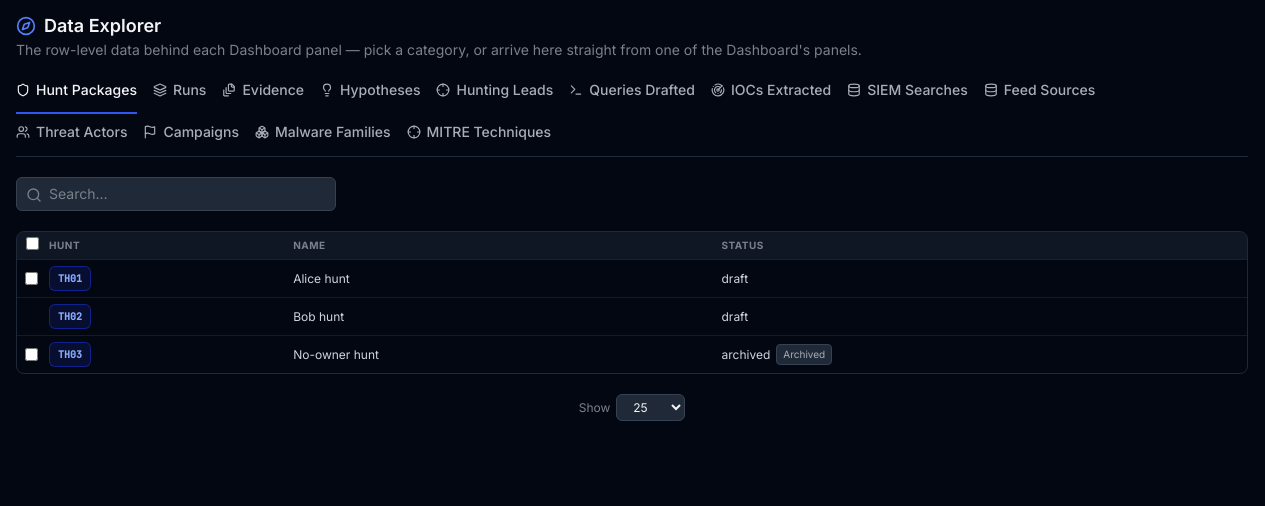
Test case: DataExplorer — bulk archive/unarchive/delete (issue-local-044) › hides the Delete action for a non-admin researcher
Expected: the text "Alice hunt" is shown, left=285, top=260, right=714, bottom=298
Click the checkbox named "Select Alice hunt".
click(32, 278)  # box left=25, top=272, right=38, bottom=284
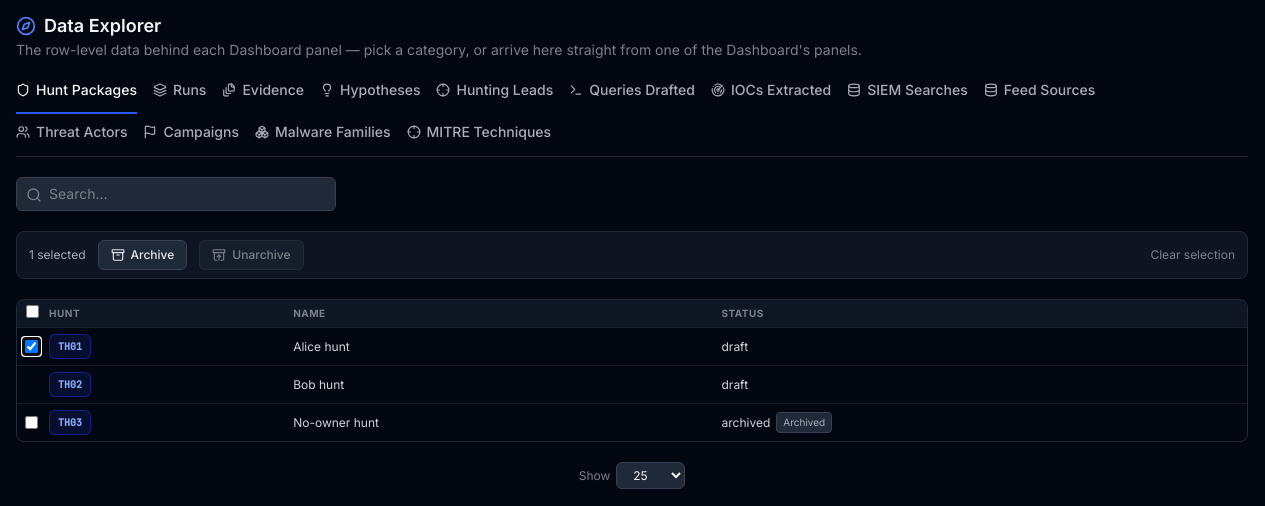
Expected: the button "Archive" is shown, left=98, top=240, right=187, bottom=270
